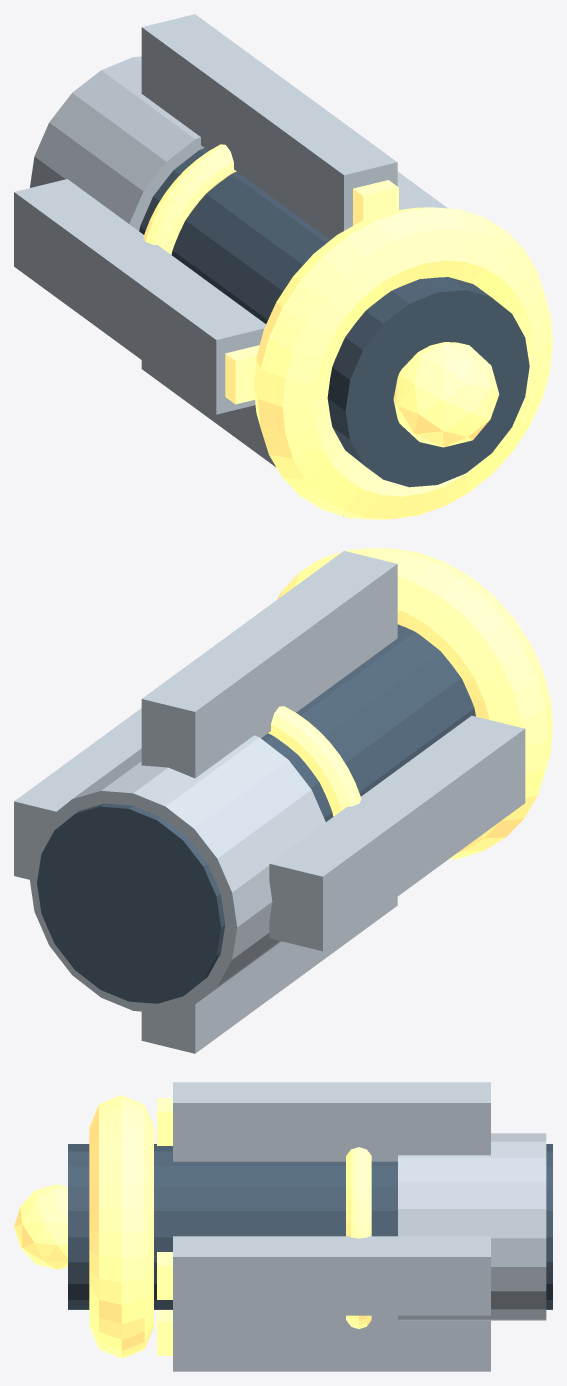
File: cataclismo.glb
The picture shows the model from 3 angles, top to bottom: view 1: azimuth 30°, elevation 25°; view 2: azimuth 150°, elevation 25°; view 3: azimuth 270°, elevation 25°; orthographic projection. The views are drawn at different scales.
Visible parts, largest first — view 1: Emitter3, Barrel0, ArmorFin9, ArmorFin7, Housing1, Muzzle4, Capacitor13, ArmorFin11, Lumen10, Lumen8, ArmorFin5; view 2: Barrel0, ArmorFin9, ArmorFin7, Housing1, Emitter3, ArmorFin11, ArmorFin5, Capacitor13; view 3: ArmorFin5, ArmorFin7, Barrel0, Housing1, ArmorFin11, Emitter3, Muzzle4, Capacitor13, Lumen6, Lumen8, Lumen12.
Boxes of the visible parts, x1=… form: Emitter3: x1=253, y1=207, x2=552, y2=519; Barrel0: x1=139, y1=148, x2=529, y2=487; ArmorFin9: x1=14, y1=179, x2=265, y2=414; ArmorFin7: x1=141, y1=14, x2=397, y2=239; Housing1: x1=30, y1=56, x2=204, y2=230; Muzzle4: x1=393, y1=342, x2=499, y2=447; Capacitor13: x1=143, y1=144, x2=236, y2=254; ArmorFin11: x1=141, y1=360, x2=343, y2=516; Lumen10: x1=225, y1=345, x2=259, y2=404; Lumen8: x1=353, y1=180, x2=398, y2=225; ArmorFin5: x1=397, y1=171, x2=447, y2=209; Barrel0: x1=37, y1=624, x2=475, y2=1003; ArmorFin9: x1=269, y1=715, x2=525, y2=951; ArmorFin7: x1=141, y1=551, x2=397, y2=778; Housing1: x1=29, y1=735, x2=325, y2=1013; Emitter3: x1=277, y1=548, x2=552, y2=859; ArmorFin11: x1=141, y1=897, x2=397, y2=1053; ArmorFin5: x1=14, y1=708, x2=141, y2=879; Capacitor13: x1=268, y1=706, x2=361, y2=816; ArmorFin5: x1=173, y1=1236, x2=490, y2=1315; ArmorFin7: x1=173, y1=1082, x2=490, y2=1161; Barrel0: x1=68, y1=1144, x2=552, y2=1309; Housing1: x1=398, y1=1133, x2=546, y2=1320; ArmorFin11: x1=173, y1=1315, x2=490, y2=1371; Emitter3: x1=89, y1=1095, x2=153, y2=1358; Muzzle4: x1=14, y1=1184, x2=67, y2=1269; Capacitor13: x1=346, y1=1147, x2=371, y2=1328; Lumen6: x1=157, y1=1252, x2=172, y2=1299; Lumen8: x1=157, y1=1098, x2=172, y2=1145; Lumen12: x1=157, y1=1310, x2=172, y2=1355.
Size of the model in its own units: 1.04 by 1.1 by 2.
